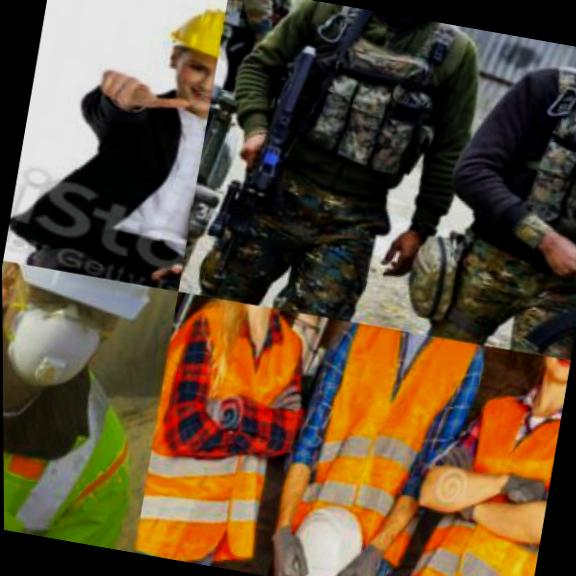safety_vest: (130, 290, 350, 576), (277, 316, 499, 576), (259, 0, 484, 224), (2, 271, 175, 552), (405, 356, 567, 576), (478, 38, 576, 305)
